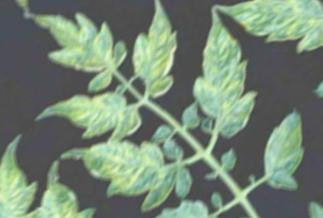Tomato leaf yellow virus: (153, 8, 294, 149), (60, 95, 203, 218), (33, 59, 153, 178), (21, 0, 141, 103), (99, 0, 214, 105), (241, 109, 323, 202), (139, 181, 238, 218)
